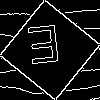E: (25, 25, 63, 73)
